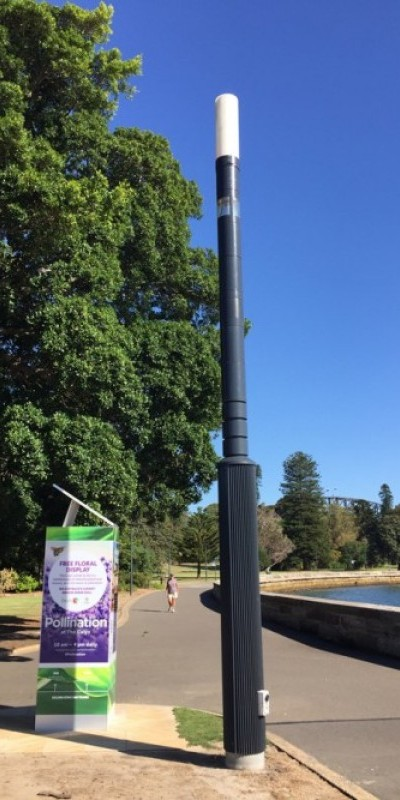pole: (186, 80, 291, 784)
